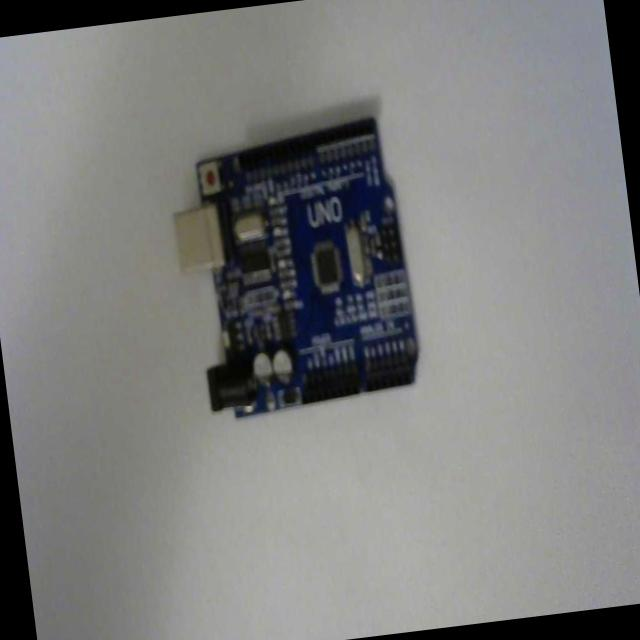arduino: (161, 106, 428, 428)
